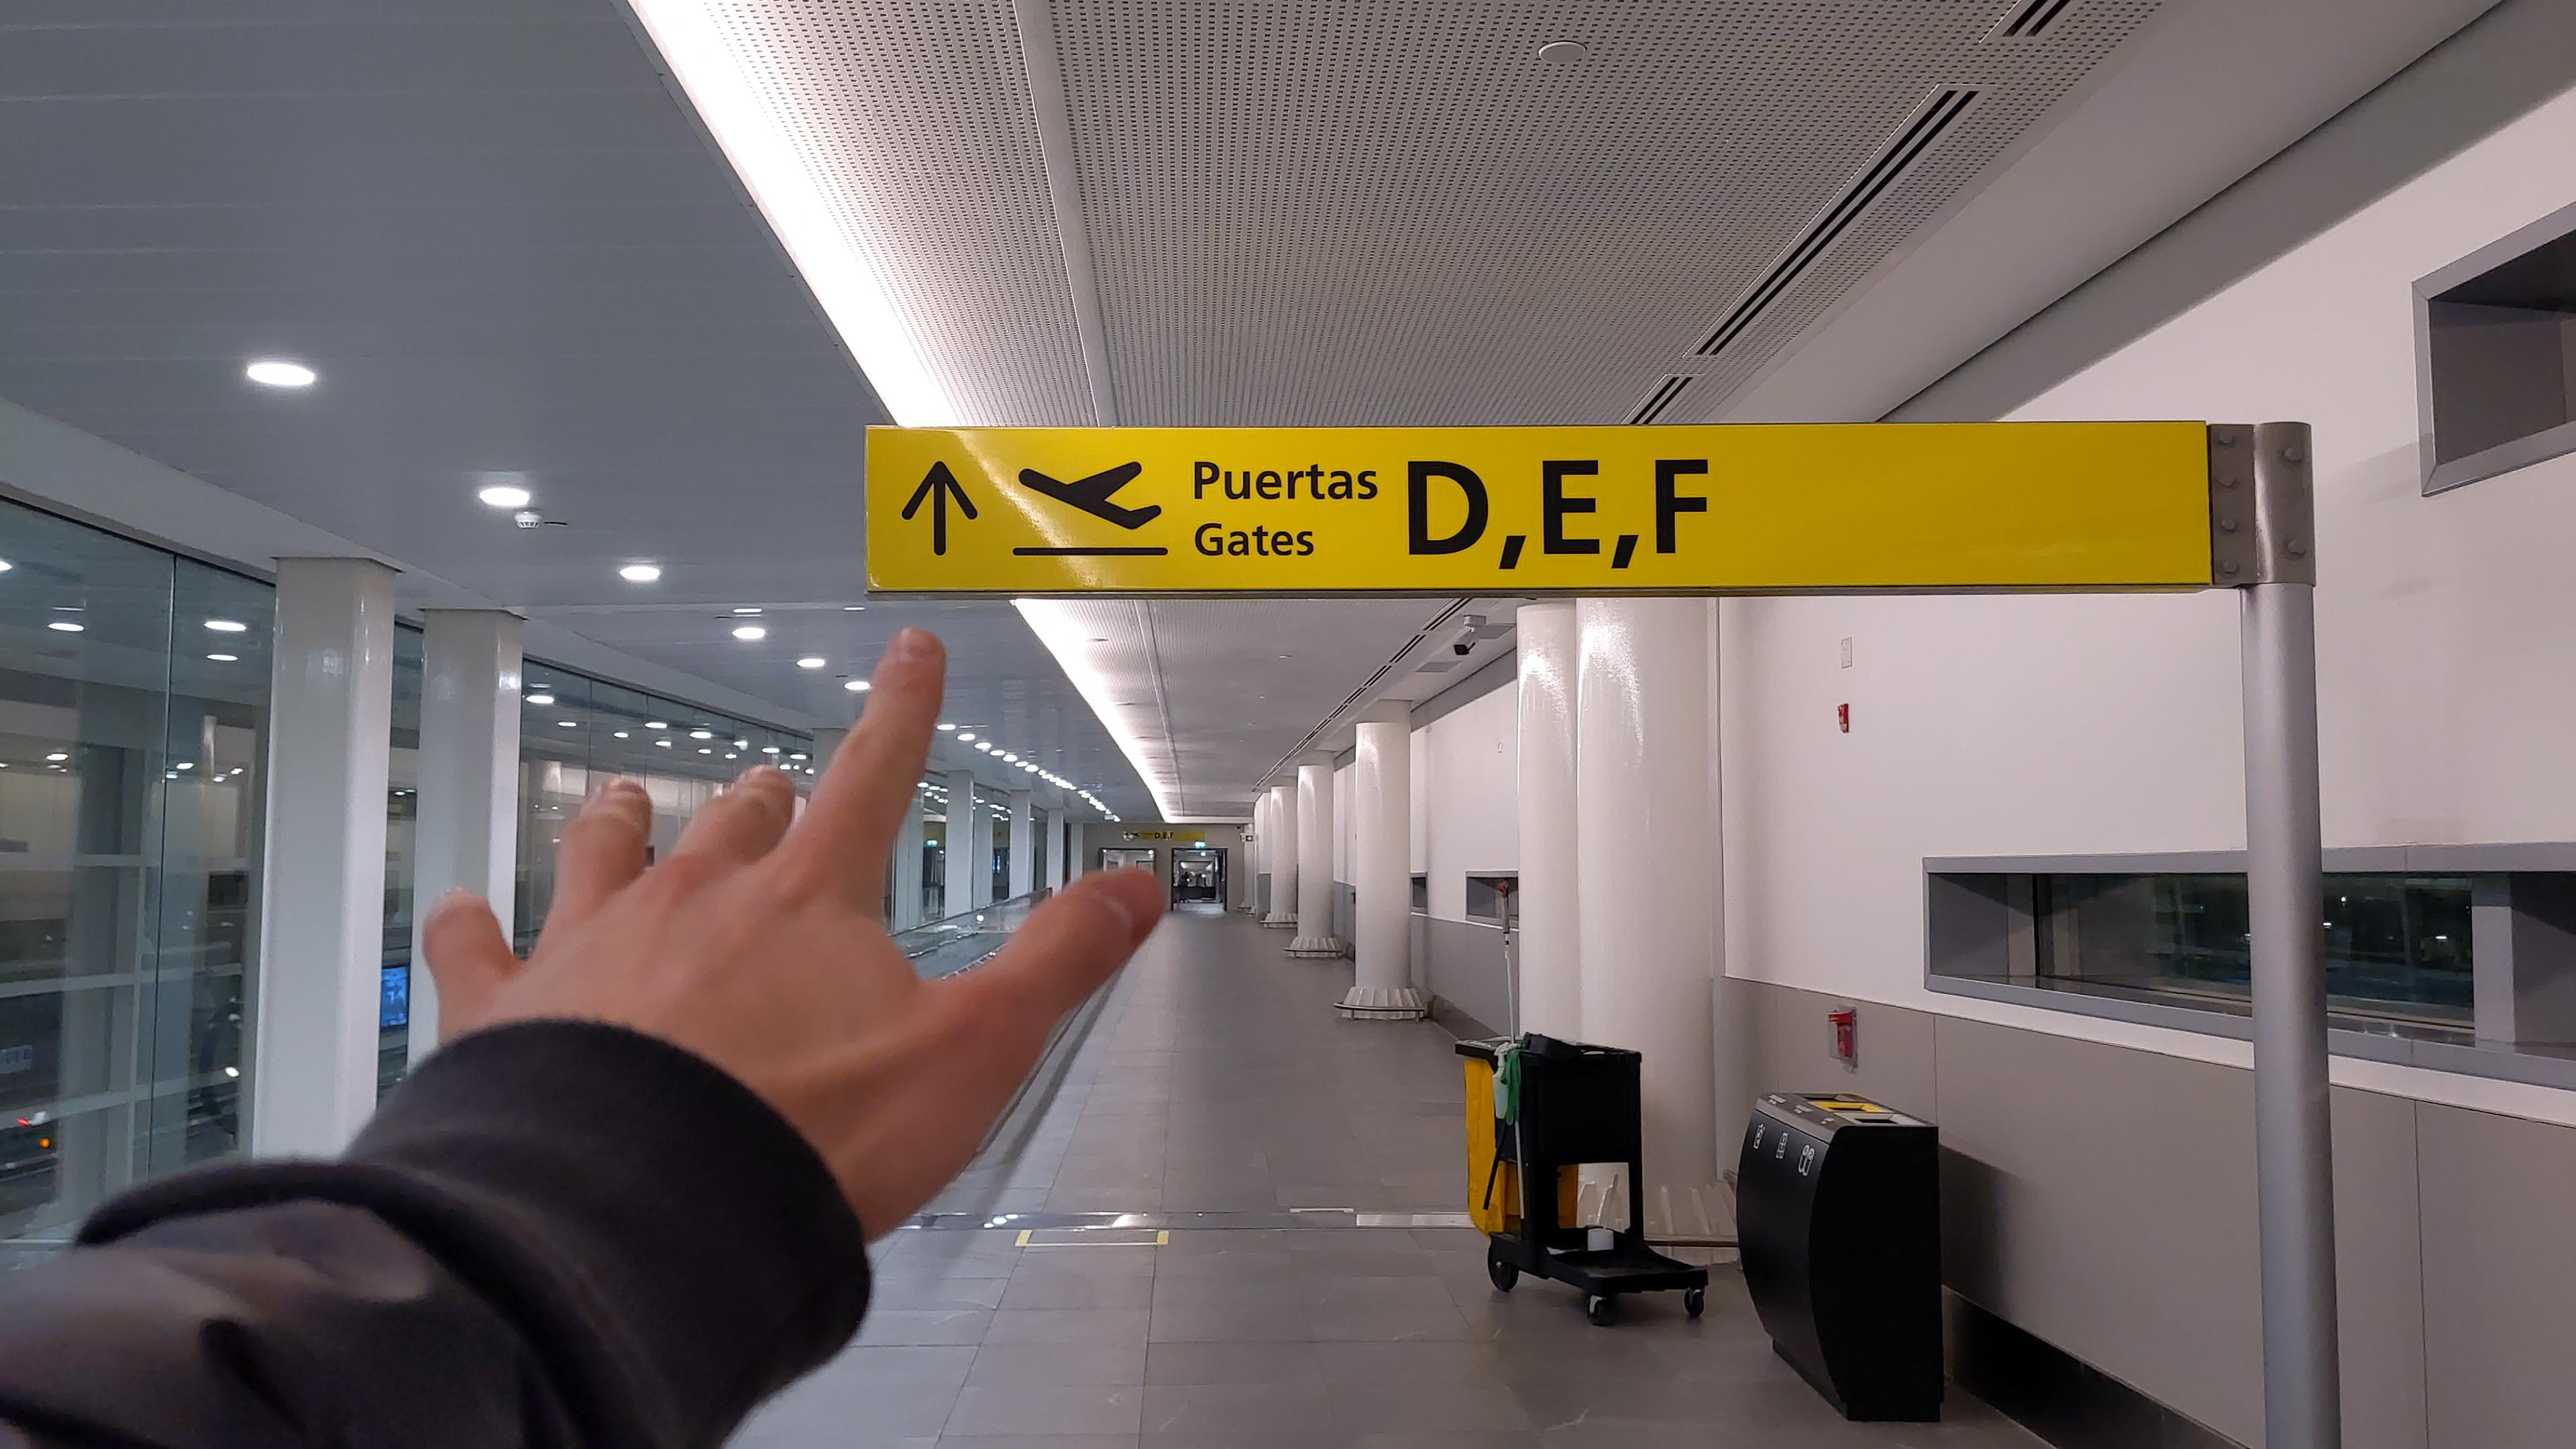airplane symbol: (1015, 458, 1167, 534)
thin up arrow: (899, 458, 981, 557)
